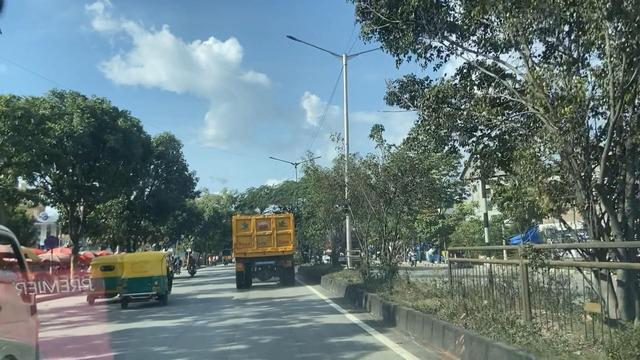HMV: (228, 220, 300, 282)
LMV: (128, 250, 173, 302), (79, 251, 128, 298)
